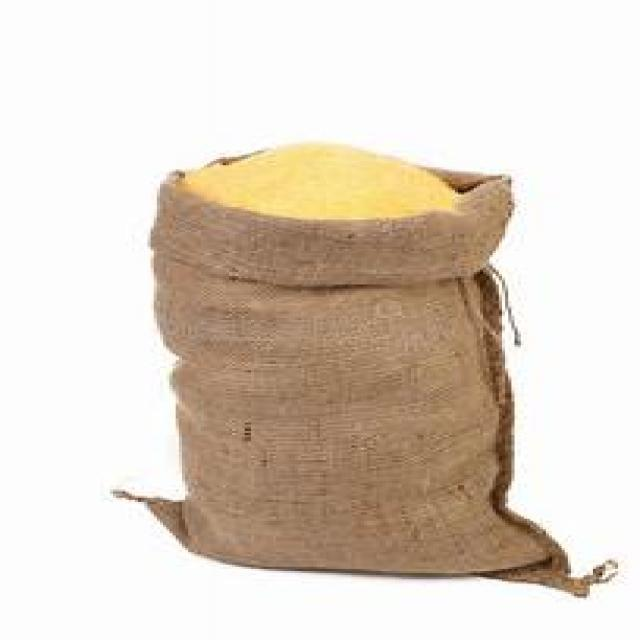gunny_bag: (125, 233, 594, 610)
